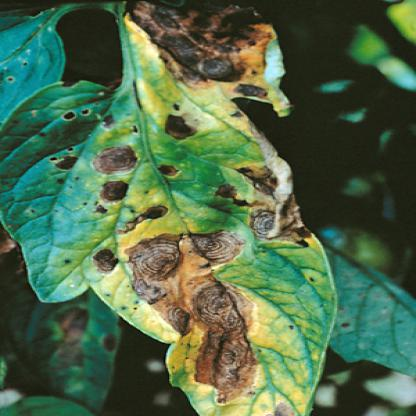tomato early blight leaf: (31, 6, 330, 415)
